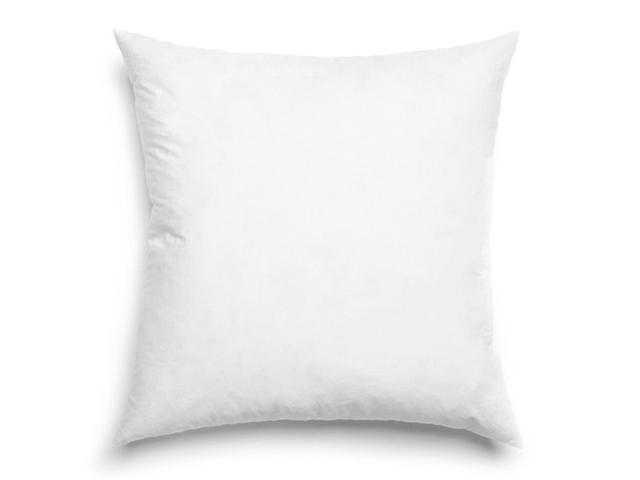pillow: (110, 25, 522, 449)
